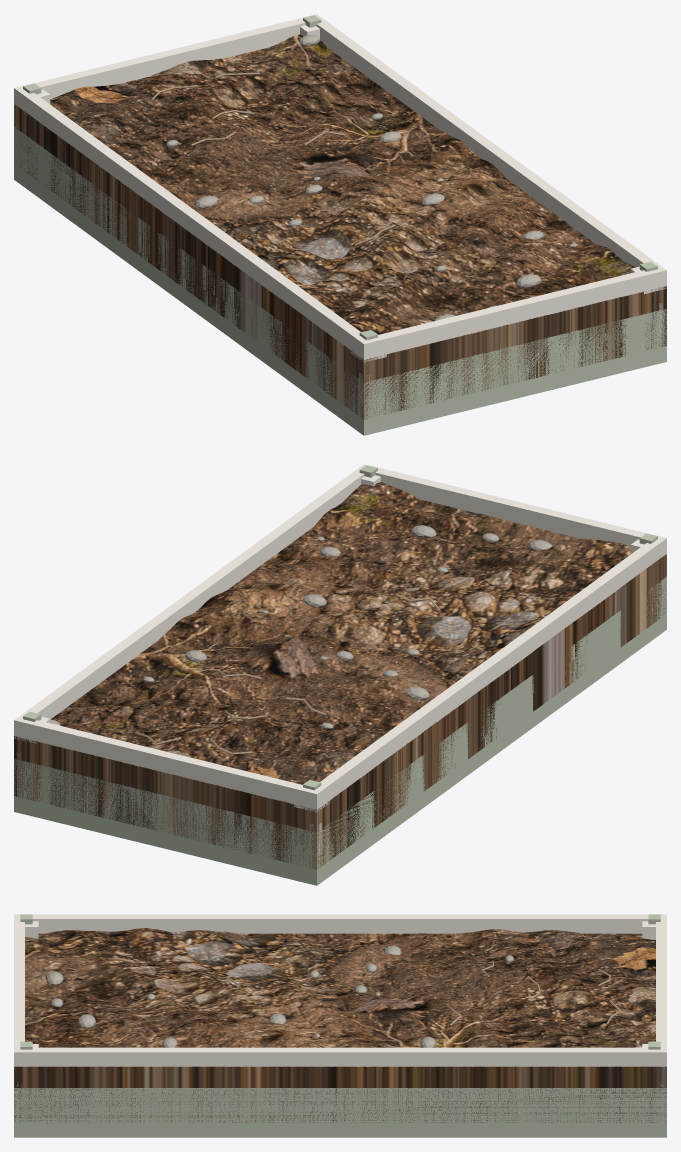
The model's file is s03-untreated-half-east.glb.
3 views of the same model, one above another, from view 1: azimuth 30°, elevation 25°; view 2: azimuth 150°, elevation 25°; view 3: azimuth 270°, elevation 25° (orthographic). The views are drawn at different scales.
Visible parts, largest first — view 1: S03_Physical_Untreated_Soil_Top_RealRelief, S03_Frame_Sage_Solid_Bottom, S03_Cream_Rim_W, S03_Cream_Rim_E, S03_Cream_Rim_N, S03_Cream_Rim_S; view 2: S03_Physical_Untreated_Soil_Top_RealRelief, S03_Frame_Sage_Solid_Bottom, S03_Cream_Rim_W, S03_Cream_Rim_E, S03_Cream_Rim_S, S03_Cream_Rim_N; view 3: S03_Physical_Untreated_Soil_Top_RealRelief, S03_Frame_Sage_Solid_Bottom, S03_Cream_Rim_E, S03_Cream_Rim_W, S03_Cream_Rim_S, S03_Cream_Rim_N.
Part boxes in pixels (left/top/right/bottom): S03_Physical_Untreated_Soil_Top_RealRelief: left=14, top=34, right=666, bottom=419; S03_Frame_Sage_Solid_Bottom: left=14, top=126, right=666, bottom=435; S03_Cream_Rim_W: left=14, top=86, right=374, bottom=359; S03_Cream_Rim_E: left=307, top=15, right=666, bottom=288; S03_Cream_Rim_N: left=358, top=267, right=666, bottom=359; S03_Cream_Rim_S: left=14, top=14, right=322, bottom=107; S03_Physical_Untreated_Soil_Top_RealRelief: left=14, top=482, right=666, bottom=869; S03_Frame_Sage_Solid_Bottom: left=14, top=576, right=666, bottom=885; S03_Cream_Rim_W: left=306, top=536, right=666, bottom=808; S03_Cream_Rim_E: left=14, top=464, right=373, bottom=738; S03_Cream_Rim_S: left=14, top=716, right=322, bottom=809; S03_Cream_Rim_N: left=358, top=464, right=666, bottom=554; S03_Physical_Untreated_Soil_Top_RealRelief: left=14, top=928, right=666, bottom=1122; S03_Frame_Sage_Solid_Bottom: left=14, top=1088, right=666, bottom=1137; S03_Cream_Rim_E: left=14, top=1047, right=666, bottom=1066; S03_Cream_Rim_W: left=14, top=914, right=666, bottom=933; S03_Cream_Rim_S: left=656, top=914, right=666, bottom=1066; S03_Cream_Rim_N: left=14, top=914, right=24, bottom=1066.
Bounding box in the file's own units: 0.5 × 0.149 × 1.
8 materials, 1 textured.
